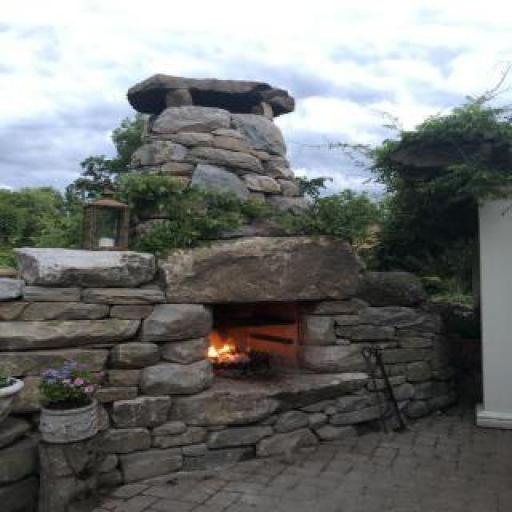smoke: (197, 324, 246, 362)
